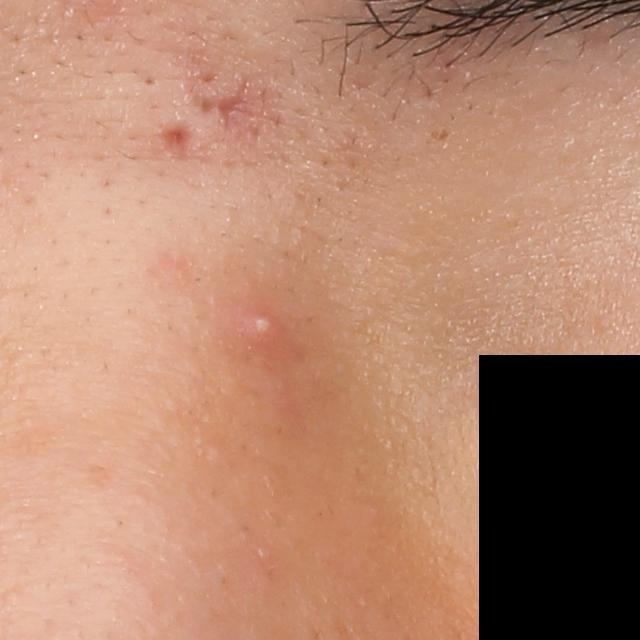atrophic_scar: (197, 70, 255, 132), (158, 120, 197, 155)
